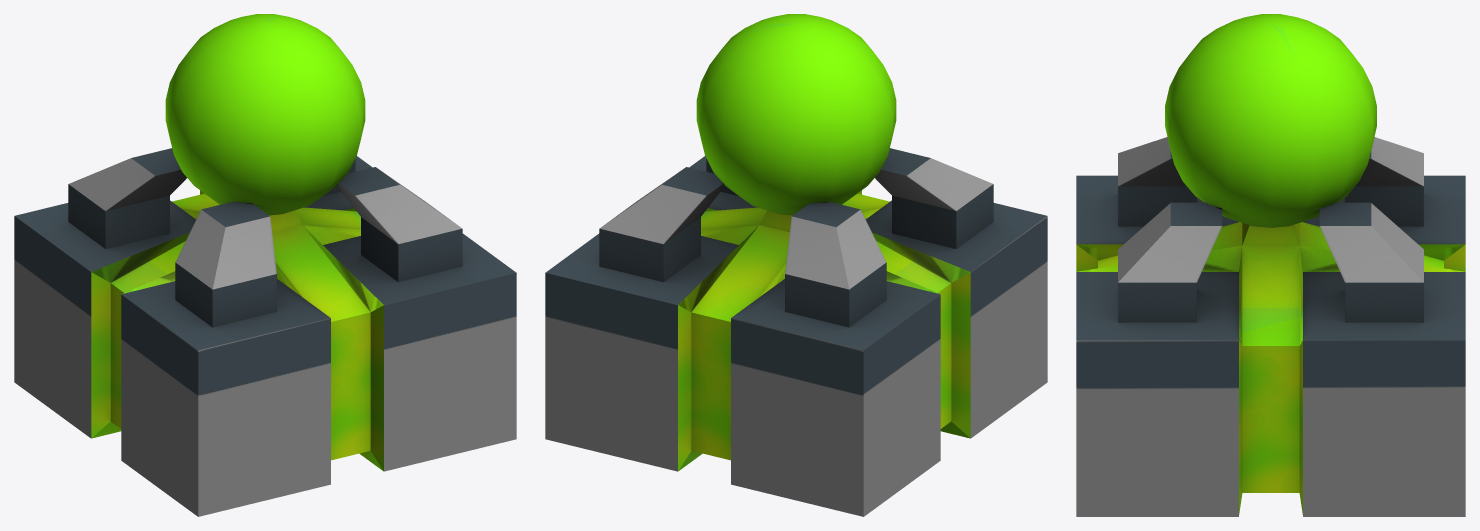
The model's file is DamageTrap.fbx.
3 renders of one model, left to right at view 1: azimuth 30°, elevation 25°; view 2: azimuth 150°, elevation 25°; view 3: azimuth 270°, elevation 25°, orthographic. The views are drawn at different scales.
Parts seen in each view (by area): view 1: DamageTrap; view 2: DamageTrap; view 3: DamageTrap.
Part boxes in pixels (<box>): DamageTrap: <box>14,14,516,516</box>; DamageTrap: <box>545,14,1047,516</box>; DamageTrap: <box>1076,14,1465,516</box>.
Bounding box in the file's own units: 40 × 46.56 × 40.
Materials: 1 (1 with a texture image).
